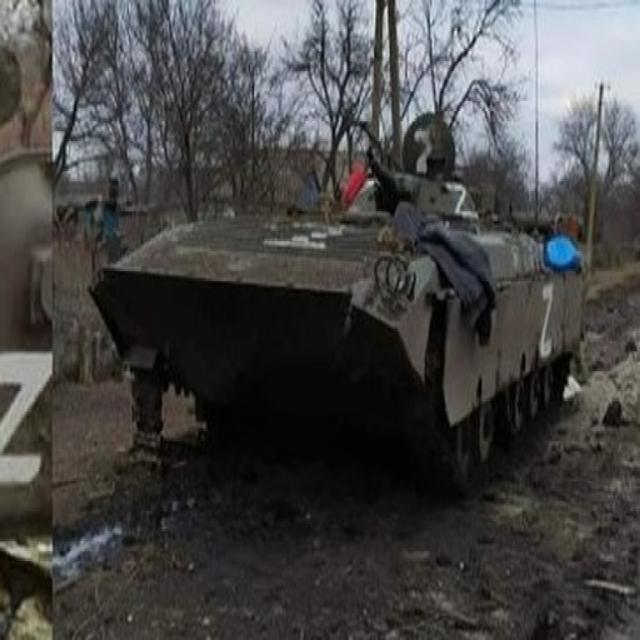APC-IFV: (86, 131, 585, 482)
